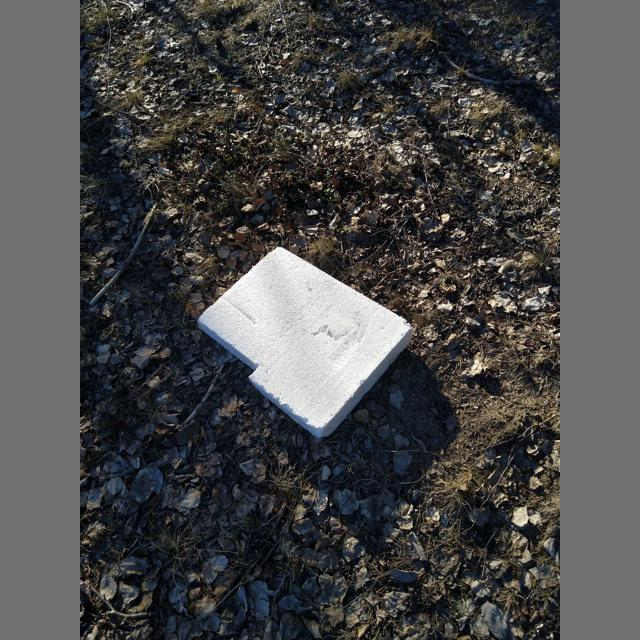litter: (198, 247, 413, 438)
